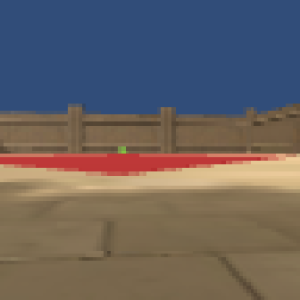deathZone: (1, 155, 298, 178)
goodGoal: (117, 144, 127, 153)
